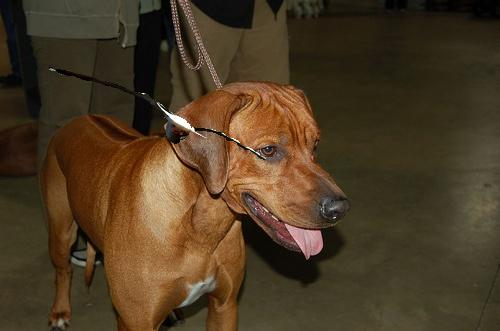tampered: (49, 68, 266, 160)
